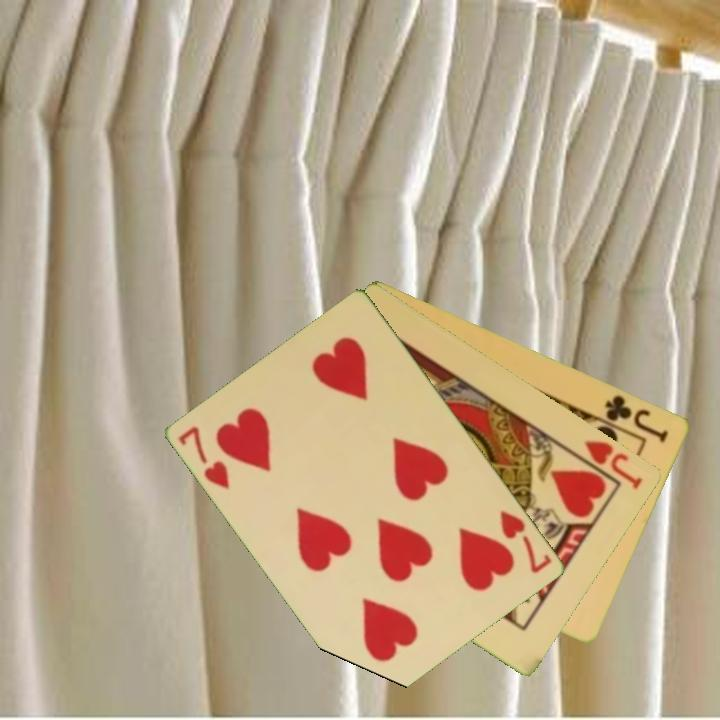7h: (496, 507, 556, 576), (175, 422, 234, 492)
Jc: (593, 391, 672, 445)
Jh: (568, 436, 646, 493)
